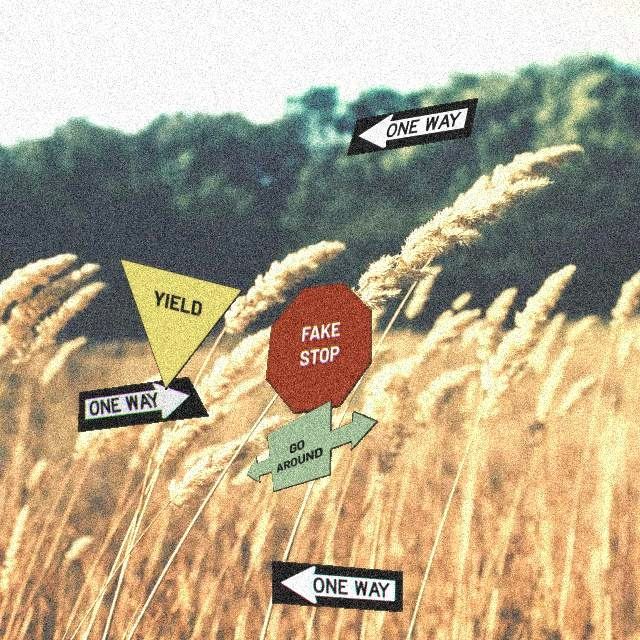FAKE_STOP: (265, 282, 372, 414)
GO_AROUND: (246, 399, 378, 492)
ONE_WAY_ left: (346, 97, 478, 156), (271, 560, 403, 612)
ONE_WAY_ right: (77, 376, 209, 432)
YIELD: (119, 258, 243, 390)
